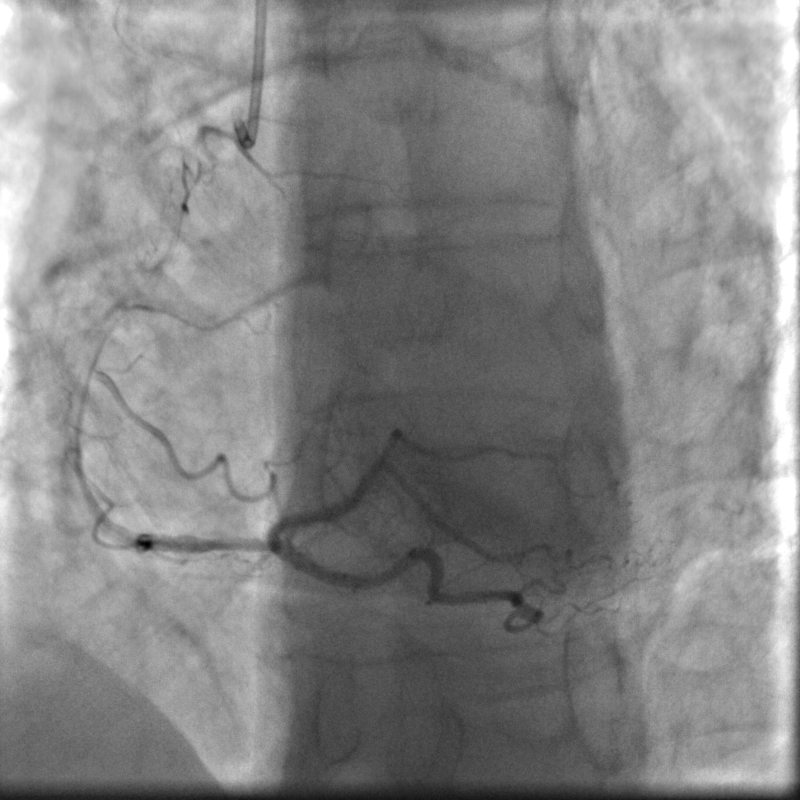Stenosis: (172, 527, 273, 569)
